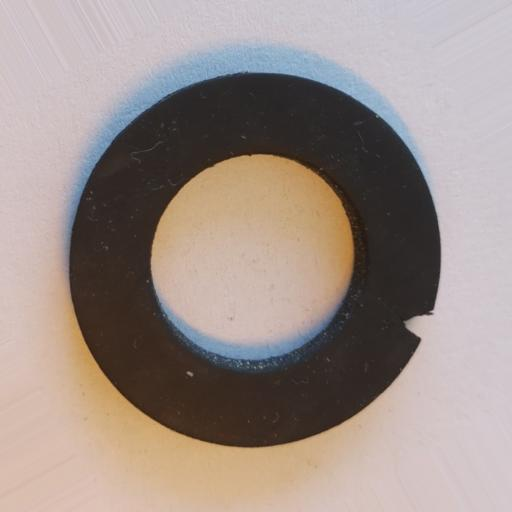defect: (402, 311, 434, 342)
